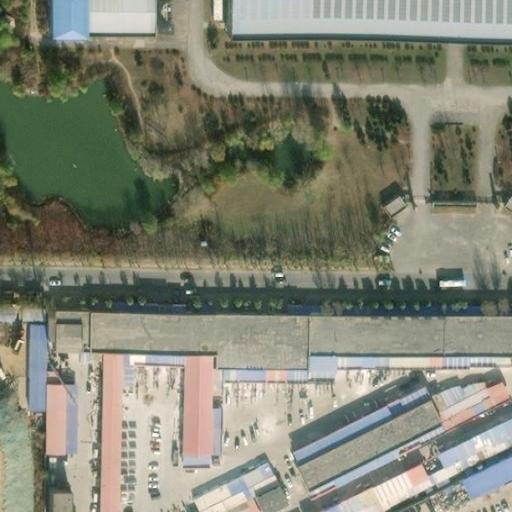building: (281, 376, 437, 488), (41, 304, 299, 360), (299, 308, 512, 374), (91, 345, 173, 512), (172, 454, 282, 512), (427, 403, 512, 468), (330, 453, 419, 512), (172, 346, 207, 447), (447, 437, 512, 489), (0, 407, 32, 512), (35, 374, 69, 446), (9, 317, 36, 401), (440, 372, 477, 416), (207, 359, 299, 374), (419, 378, 453, 418), (461, 369, 501, 403), (379, 188, 411, 218), (288, 495, 338, 512), (37, 477, 60, 512)
